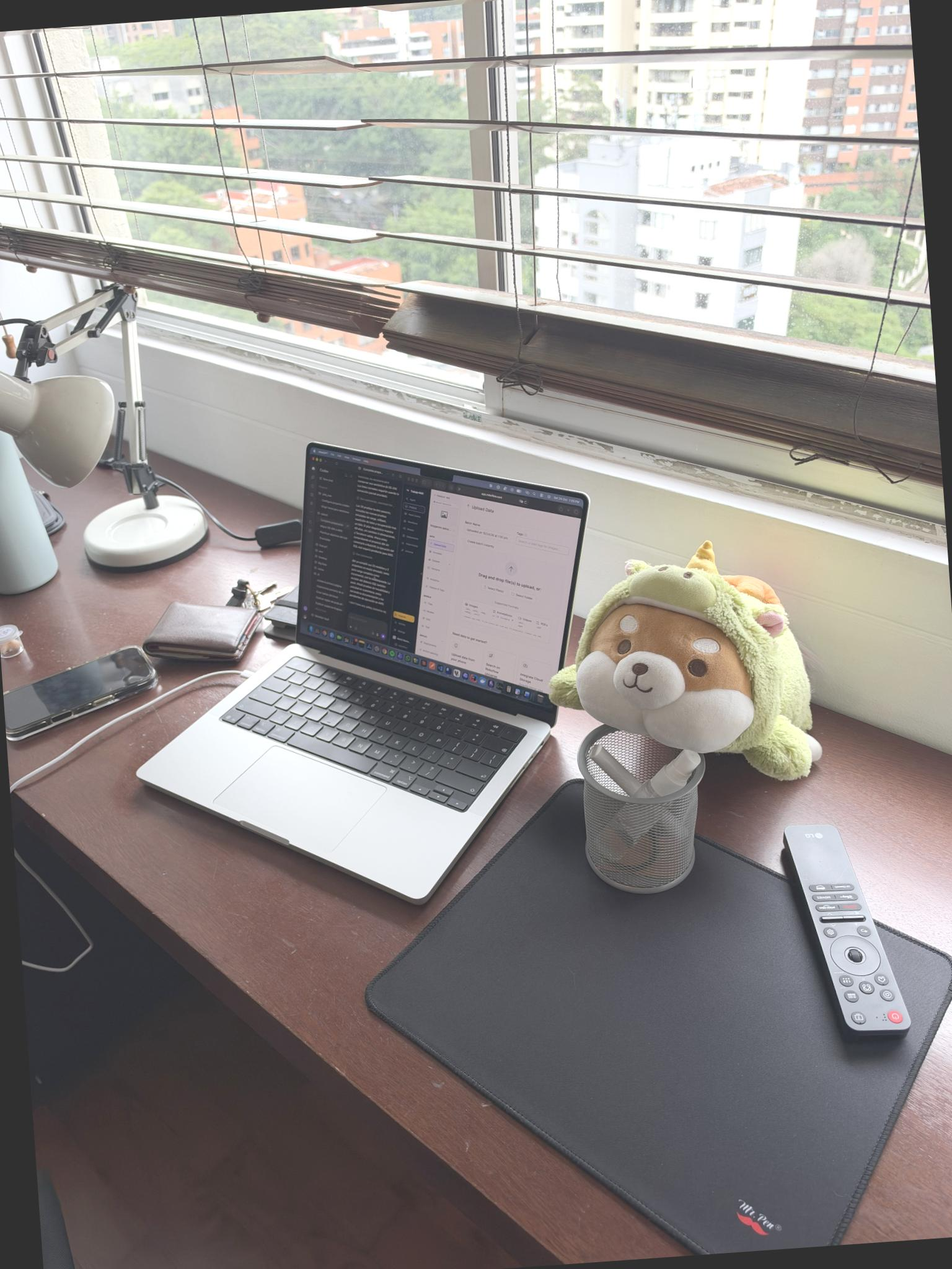peluche_martin: (538, 533, 825, 798)
